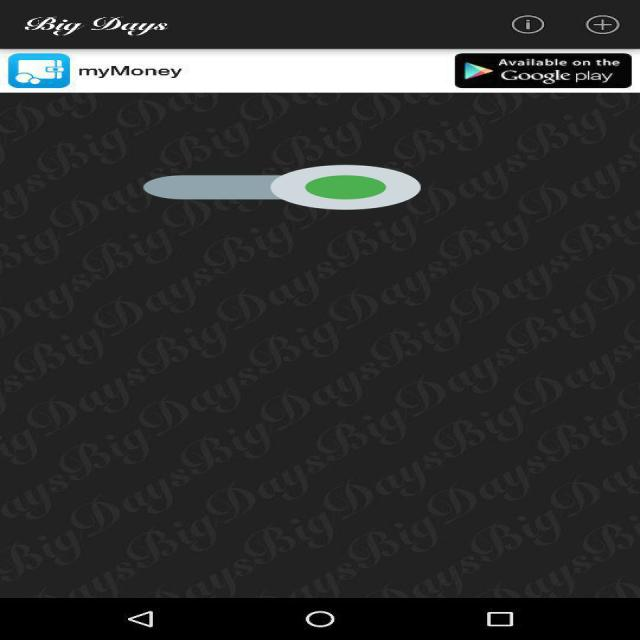social proof: (143, 146, 421, 229)
